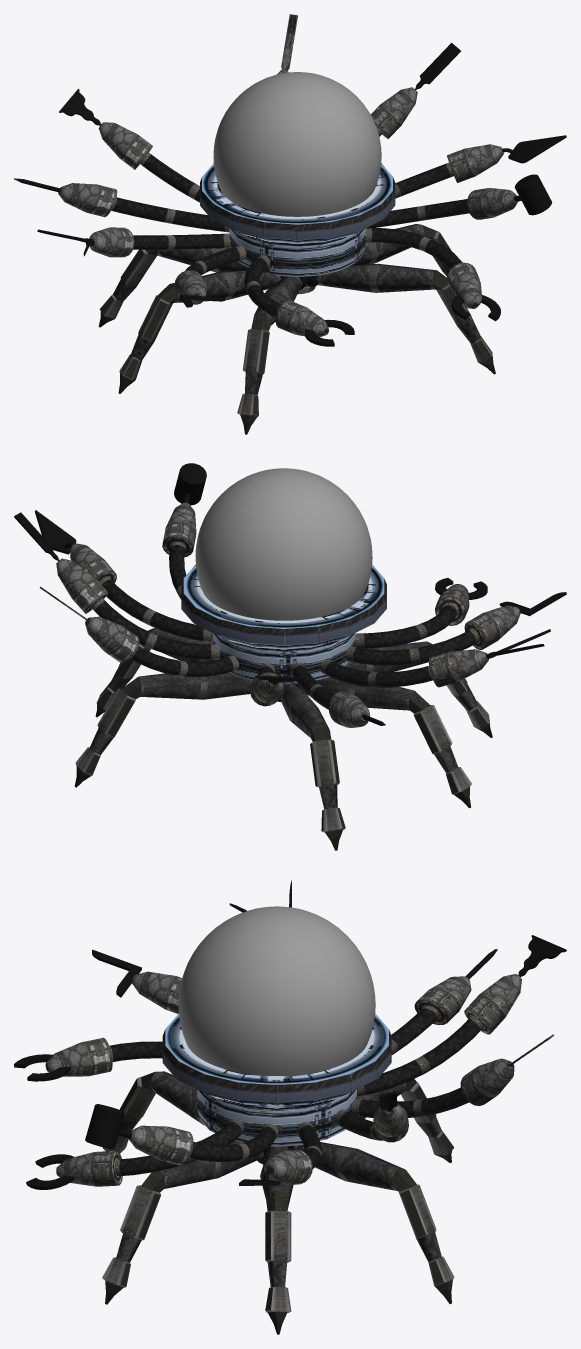
Rendered from uploads_files_2012767_Stonecutter.fbx.
3 views of the same model, one above another, from view 1: azimuth 30°, elevation 25°; view 2: azimuth 150°, elevation 25°; view 3: azimuth 270°, elevation 25° (orthographic). The views are drawn at different scales.
Visible parts, largest first — view 1: Sphere010, Cylinder001, Cylinder015, dast nemone004, Cylinder011, Cylinder027, dast nemone021, dast nemone003, dast nemone005, Cylinder010, dast nemone, dast nemone002 (+5 smaller); view 2: Sphere010, Cylinder001, Cylinder013, Cylinder011, dast nemone007, dast nemone001, Cylinder012, dast nemone002, dast nemone003, dast nemone023, dast nemone004, dast nemone (+4 smaller); view 3: Sphere010, Cylinder001, Cylinder013, dast nemone005, dast nemone004, Cylinder015, dast nemone021, Cylinder014, dast nemone, dast nemone023, Cylinder027, Cylinder010 (+4 smaller).
Boxes of the visible parts, x1=… form: Sphere010: x1=213, y1=72, x2=381, y2=216; Cylinder001: x1=200, y1=163, x2=395, y2=294; Cylinder015: x1=316, y1=263, x2=495, y2=374; dast nemone004: x1=366, y1=174, x2=552, y2=228; Cylinder011: x1=118, y1=270, x2=280, y2=393; Cylinder027: x1=14, y1=178, x2=229, y2=232; dast nemone021: x1=365, y1=228, x2=500, y2=321; dast nemone003: x1=395, y1=135, x2=566, y2=198; dast nemone005: x1=59, y1=88, x2=199, y2=202; Cylinder010: x1=237, y1=276, x2=302, y2=434; dast nemone: x1=244, y1=255, x2=354, y2=346; dast nemone002: x1=37, y1=227, x2=230, y2=257; Sphere010: x1=195, y1=468, x2=372, y2=620; Cylinder001: x1=181, y1=564, x2=386, y2=701; Cylinder013: x1=74, y1=672, x2=252, y2=787; Cylinder011: x1=299, y1=677, x2=471, y2=808; dast nemone007: x1=14, y1=512, x2=220, y2=659; dast nemone001: x1=346, y1=592, x2=566, y2=665; Cylinder012: x1=280, y1=683, x2=345, y2=850; dast nemone002: x1=320, y1=629, x2=550, y2=687; dast nemone003: x1=35, y1=510, x2=212, y2=642; dast nemone023: x1=39, y1=586, x2=239, y2=677; dast nemone004: x1=162, y1=463, x2=206, y2=599; dast nemone: x1=355, y1=578, x2=487, y2=648; Sphere010: x1=178, y1=906, x2=375, y2=1075; Cylinder001: x1=162, y1=1013, x2=391, y2=1164; Cylinder013: x1=293, y1=1142, x2=454, y2=1303; dast nemone005: x1=357, y1=935, x2=566, y2=1096; dast nemone004: x1=85, y1=1104, x2=278, y2=1165; Cylinder015: x1=102, y1=1141, x2=264, y2=1304; dast nemone021: x1=26, y1=1119, x2=244, y2=1189; Cylinder014: x1=260, y1=1146, x2=293, y2=1334; dast nemone: x1=14, y1=1037, x2=162, y2=1081; dast nemone023: x1=352, y1=1034, x2=553, y2=1117; Cylinder027: x1=391, y1=949, x2=497, y2=1054; Cylinder010: x1=102, y1=1071, x2=204, y2=1153.
Size of the model in its own units: 173 by 88.32 by 139.
Materials: 6 (4 with a texture image).
